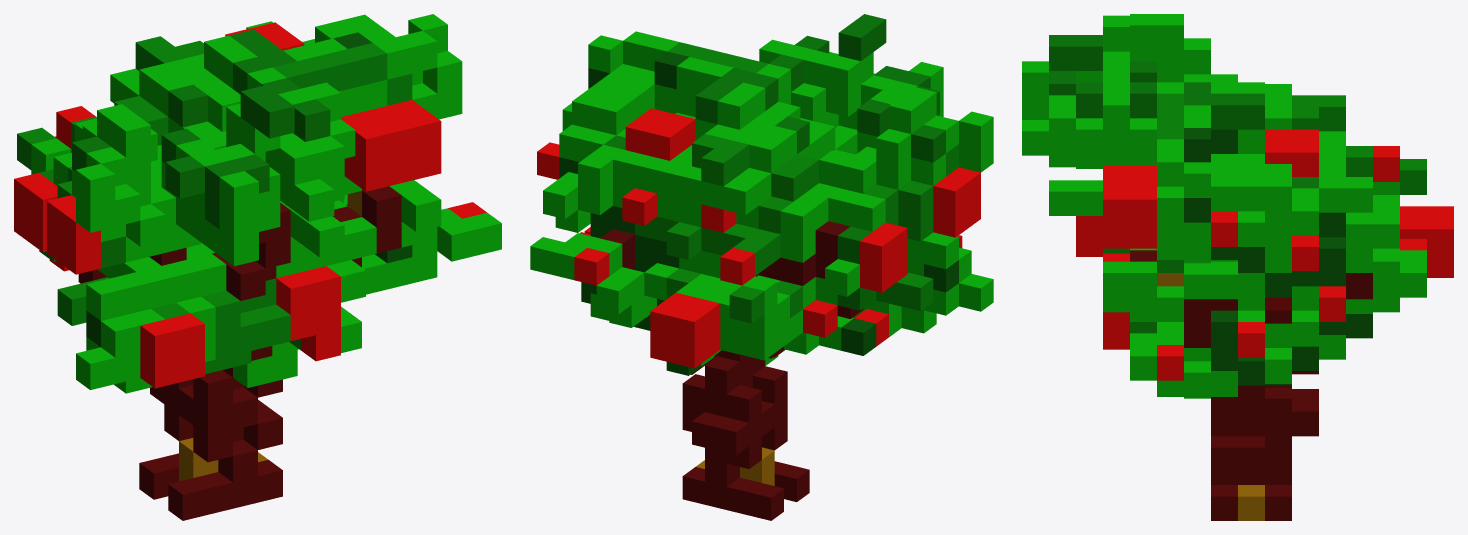
File: Manzano_Julian_David_Almonacid_Vanegas_fase_3.obj
The picture shows the model from 3 angles, left to right: view 1: azimuth 30°, elevation 25°; view 2: azimuth 150°, elevation 25°; view 3: azimuth 270°, elevation 25°; orthographic projection. The views are drawn at different scales.
Visible parts, largest first — view 1: Manzano_Julian_David_Almonacid_Vanegas_fase_3; view 2: Manzano_Julian_David_Almonacid_Vanegas_fase_3; view 3: Manzano_Julian_David_Almonacid_Vanegas_fase_3.
Part boxes in pixels (x1,y1,x2,y2): Manzano_Julian_David_Almonacid_Vanegas_fase_3: (14,14,501,520); Manzano_Julian_David_Almonacid_Vanegas_fase_3: (530,14,993,520); Manzano_Julian_David_Almonacid_Vanegas_fase_3: (1022,14,1453,520).
Size of the model in its own units: 17 by 18 by 16.
